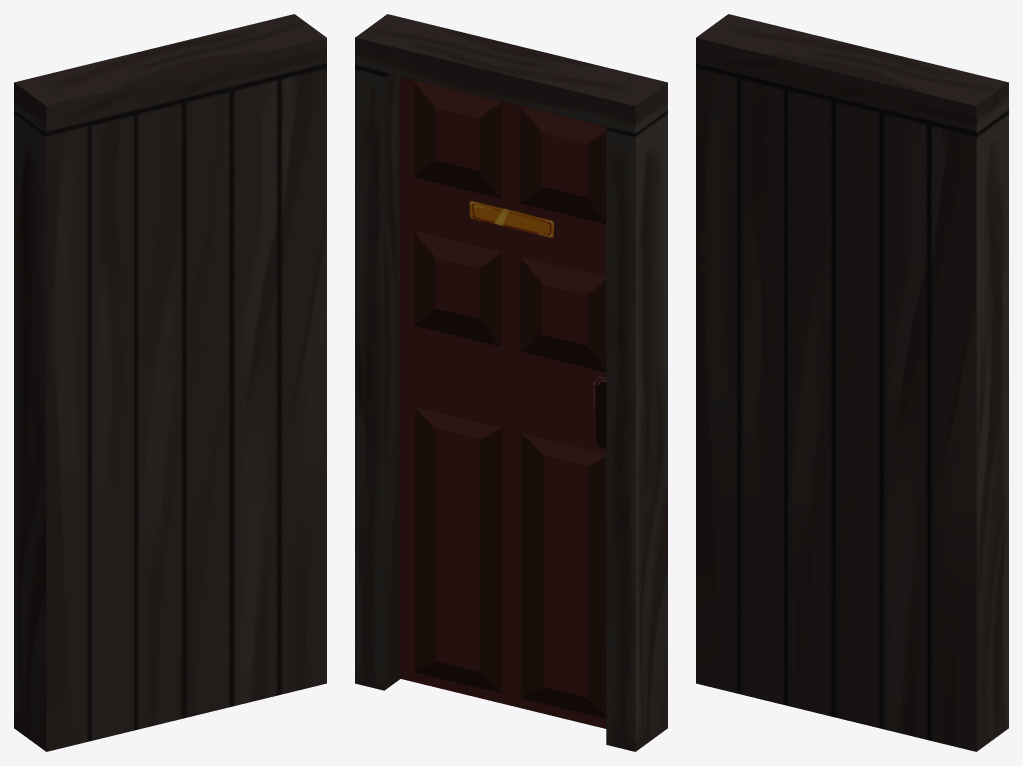
The model's file is door01.fbx.
3 renders of one model, left to right at view 1: azimuth 30°, elevation 25°; view 2: azimuth 150°, elevation 25°; view 3: azimuth 330°, elevation 25°, orthographic.
Visible parts, largest first — view 1: door01; view 2: door01; view 3: door01.
Boxes of the visible parts, x1,y1,x2,y2 form: door01: [14, 14, 326, 751]; door01: [355, 14, 667, 751]; door01: [696, 14, 1008, 751].
Bounding box in the file's own units: 100 × 220 × 20.
